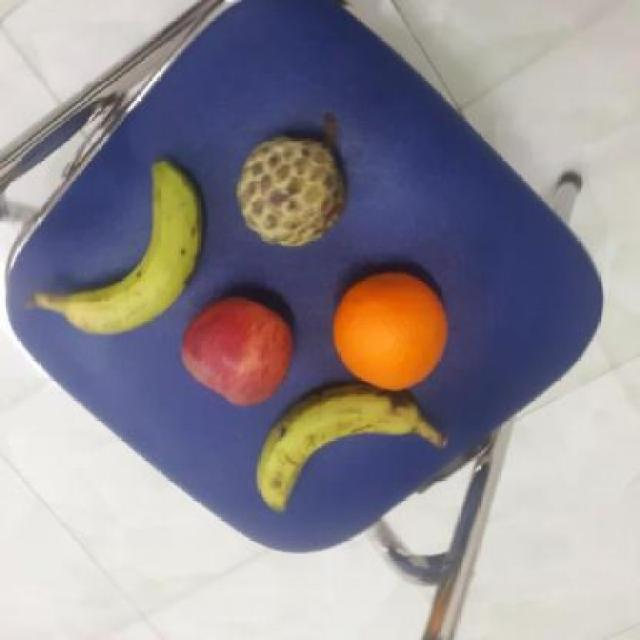apple: (181, 295, 304, 407)
banana: (62, 159, 209, 343), (250, 388, 428, 510)
oren: (326, 270, 451, 395)
sugar apple: (227, 138, 351, 248)
